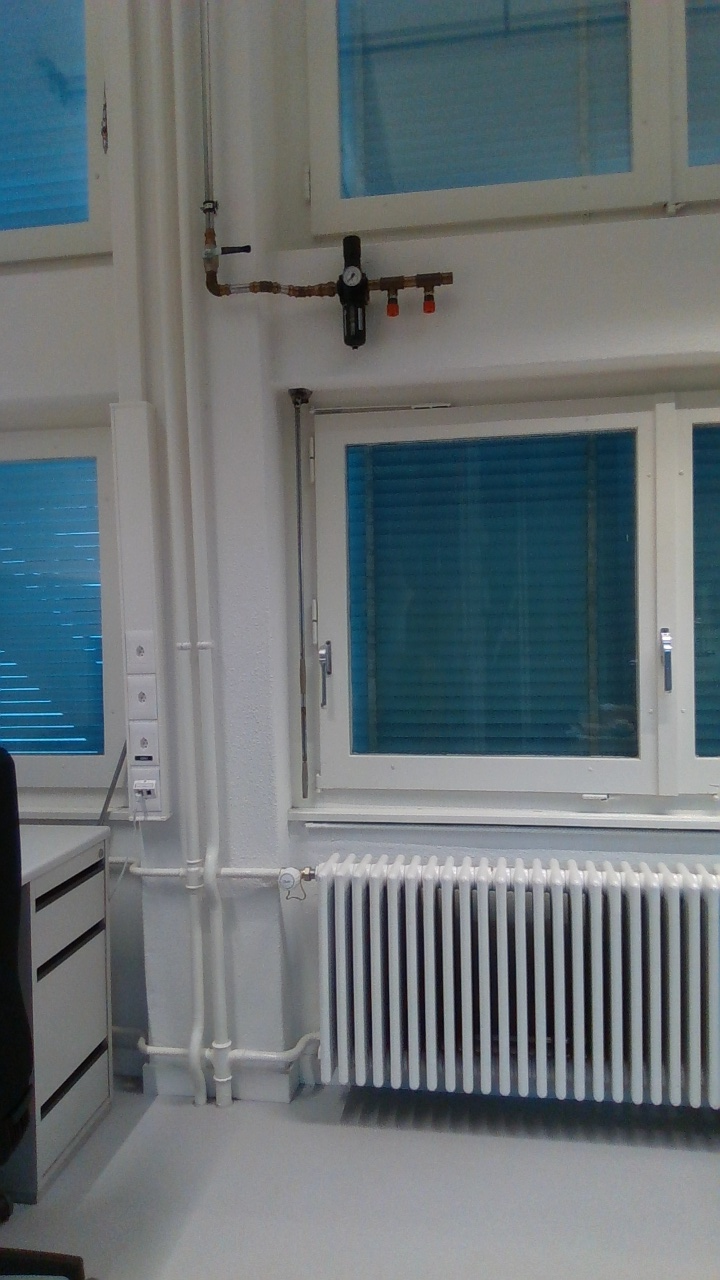Knob_Radiator: (270, 861, 308, 897)
Radiator: (310, 849, 720, 1117)
